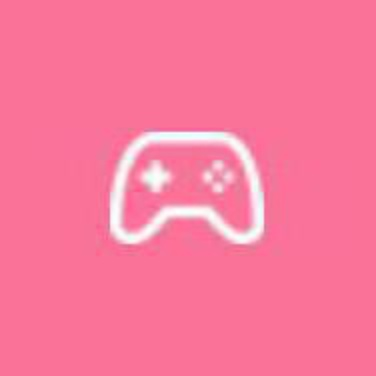ImgButton: (1, 1, 375, 375)
